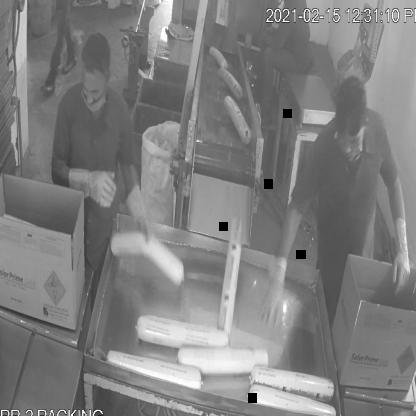glove: (64, 152, 118, 223), (256, 238, 290, 337), (387, 201, 415, 308), (118, 178, 154, 249)
